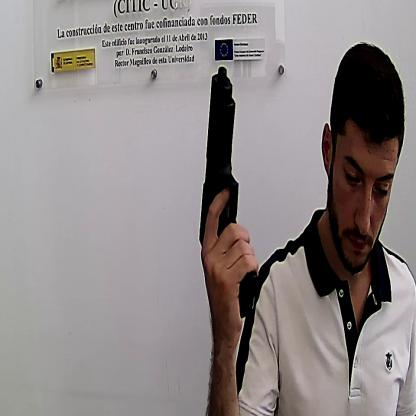gun: (198, 63, 258, 318)
